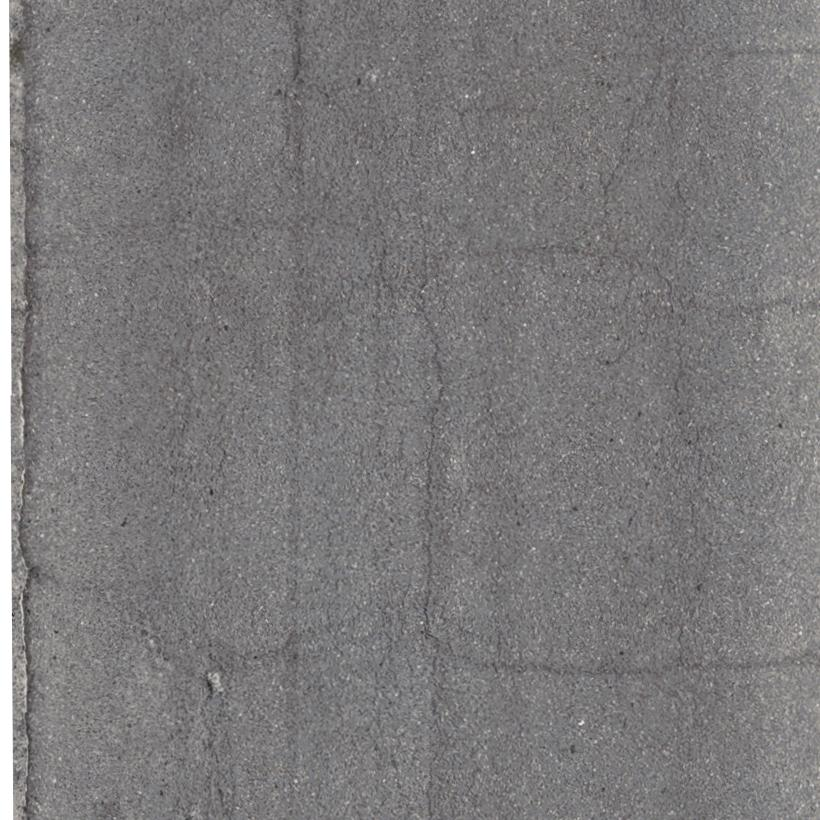BACHE: (206, 672, 220, 695)
GRIETA: (425, 631, 819, 677), (416, 276, 447, 627), (718, 296, 819, 318)
PIEL DE COCODRILO: (596, 43, 734, 561), (332, 315, 443, 819)
